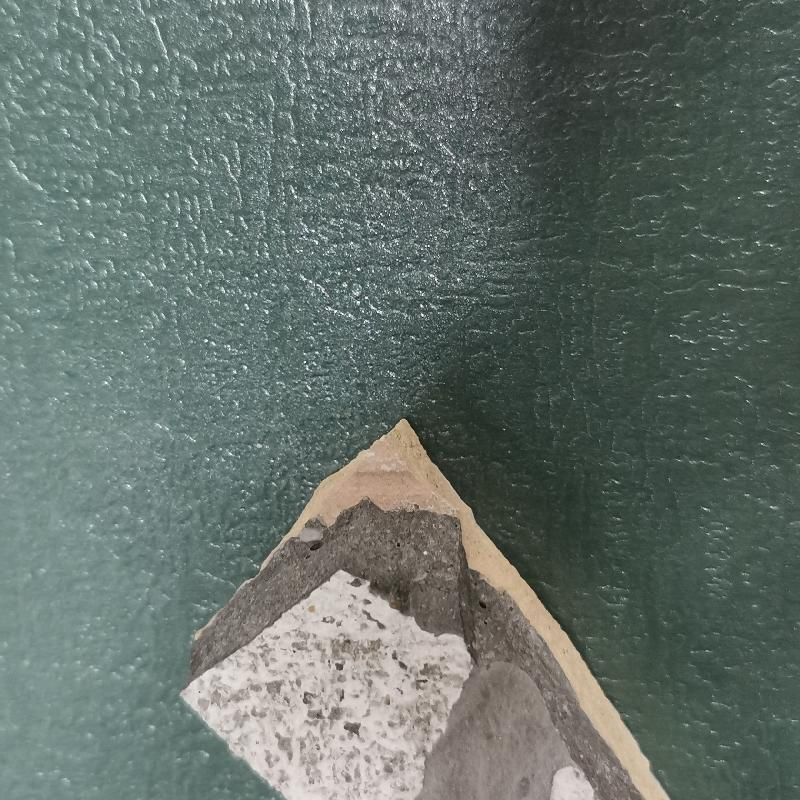tile: (181, 417, 698, 800)
